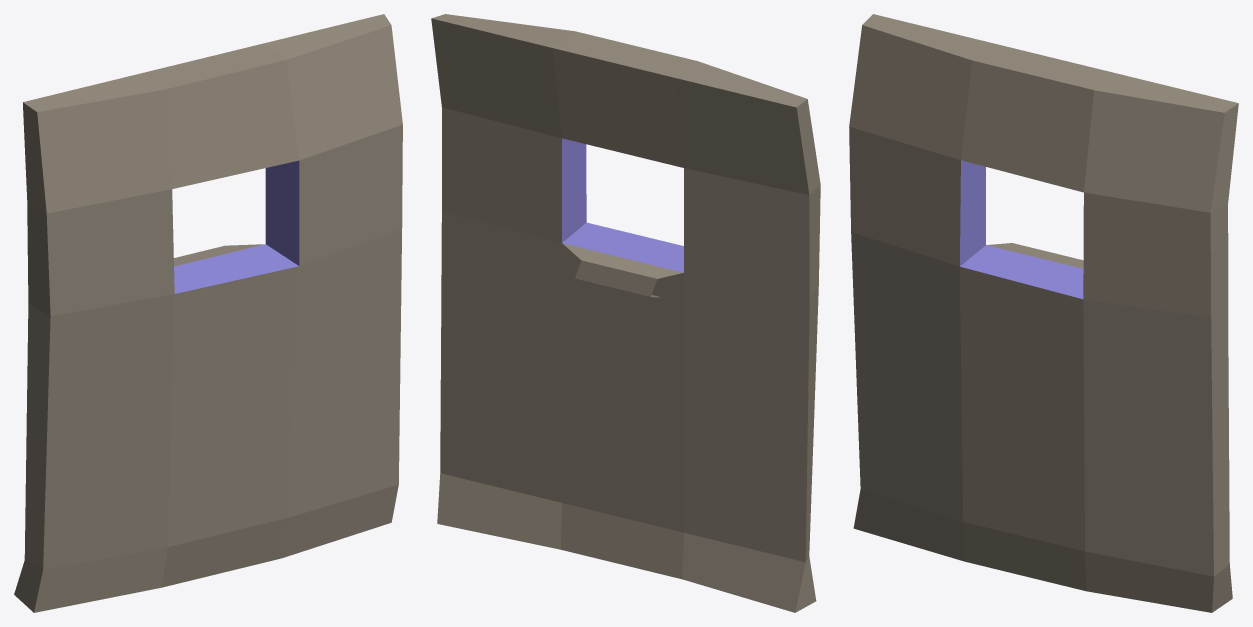
File: shield (2).fbx
3 renders of one model, left to right at view 1: azimuth 30°, elevation 25°; view 2: azimuth 150°, elevation 25°; view 3: azimuth 330°, elevation 25°, orthographic.
Parts seen in each view (by area): view 1: Cube; view 2: Cube; view 3: Cube.
Boxes of the visible parts, bbox=[...] form: Cube: bbox=[14, 14, 402, 612]; Cube: bbox=[431, 14, 820, 612]; Cube: bbox=[849, 14, 1238, 612].
Bounding box in the file's own units: 202 × 264 × 40.
